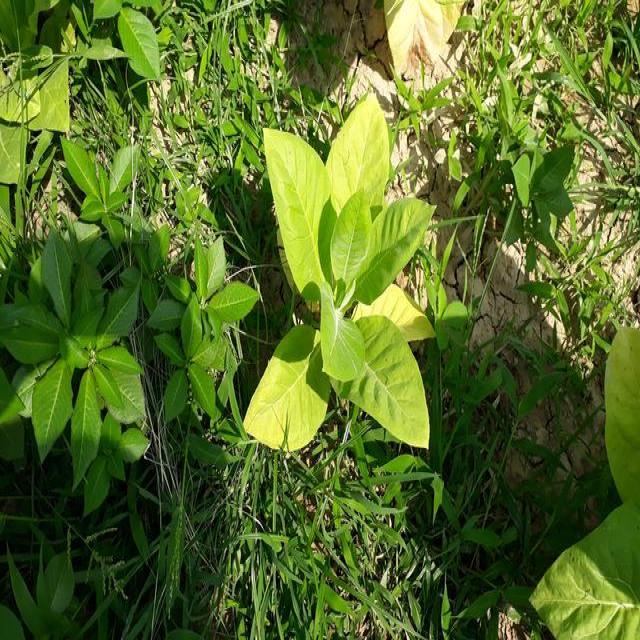crop: (245, 100, 437, 472)
